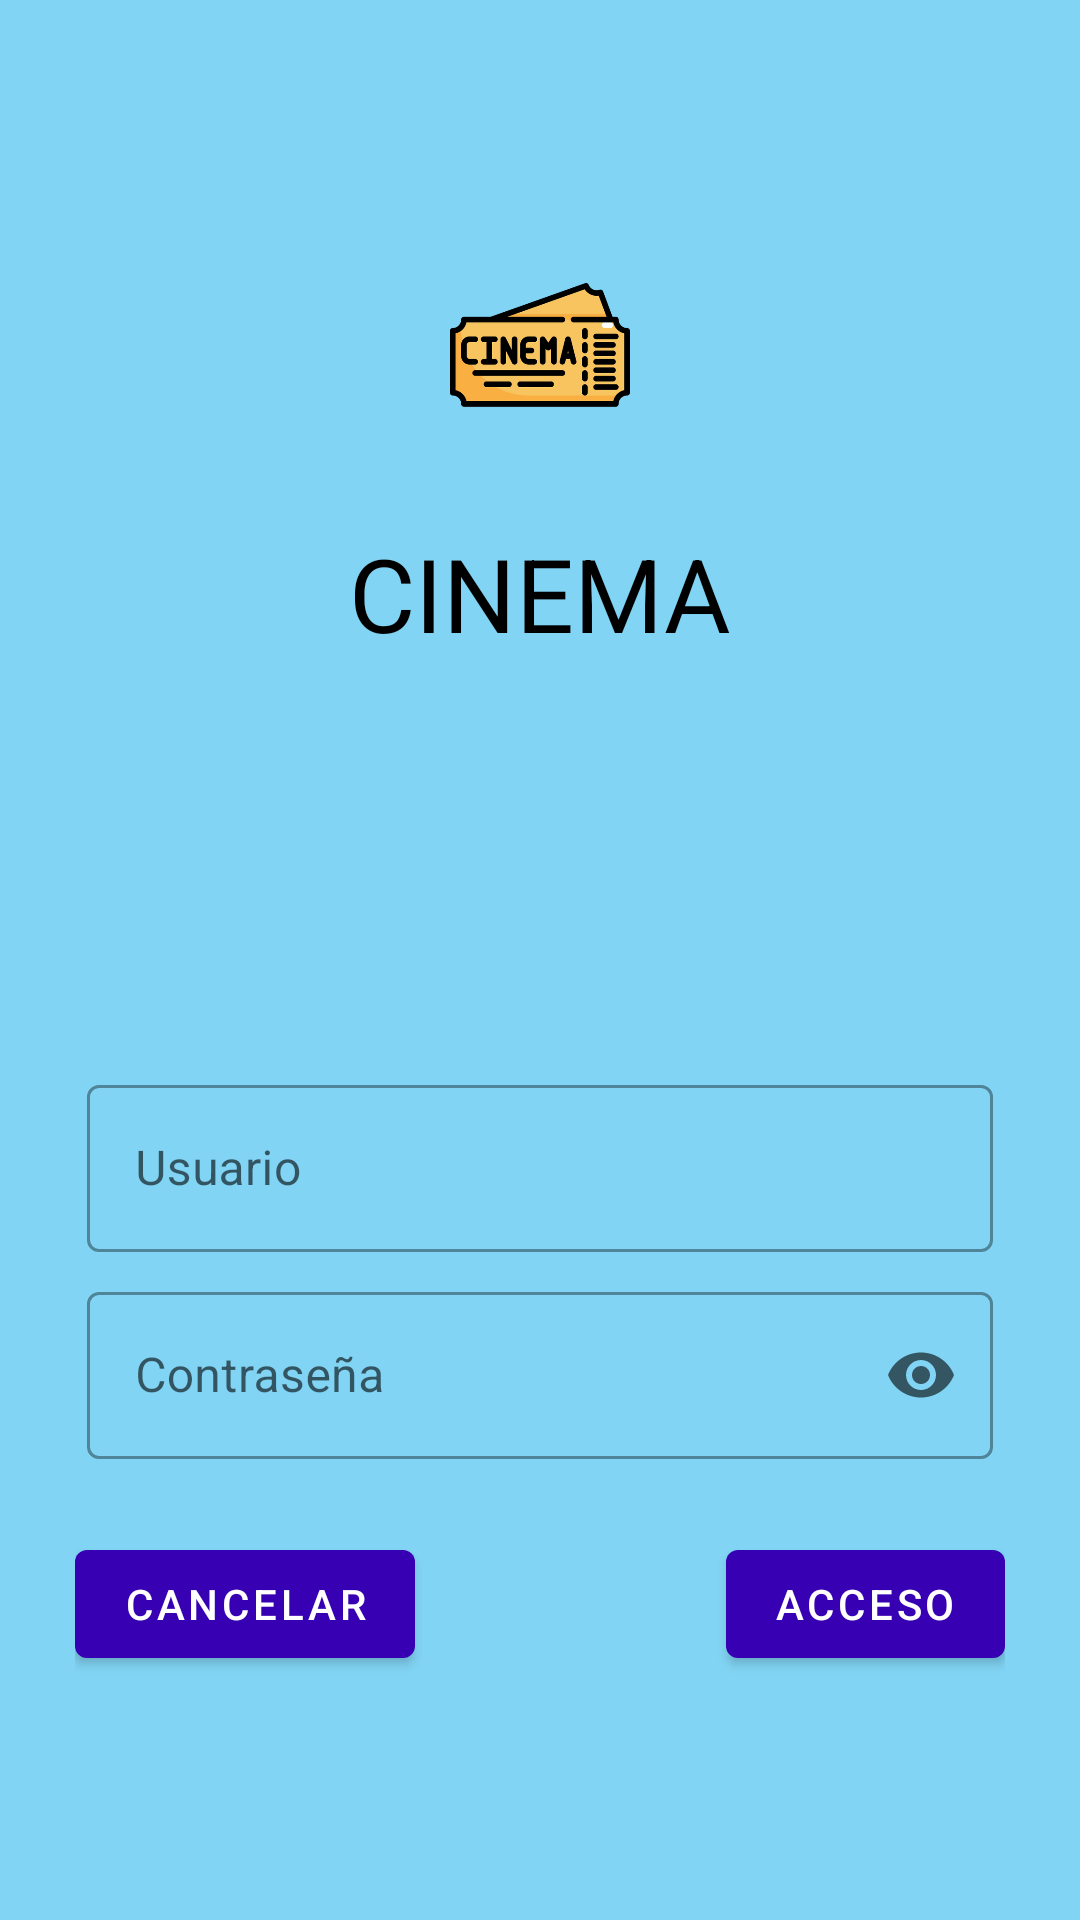

Icons on this 1080 x 1920 Android screen, each with the point to tap as (x=x, y=y):
entrada de cine: (x=540, y=345)
